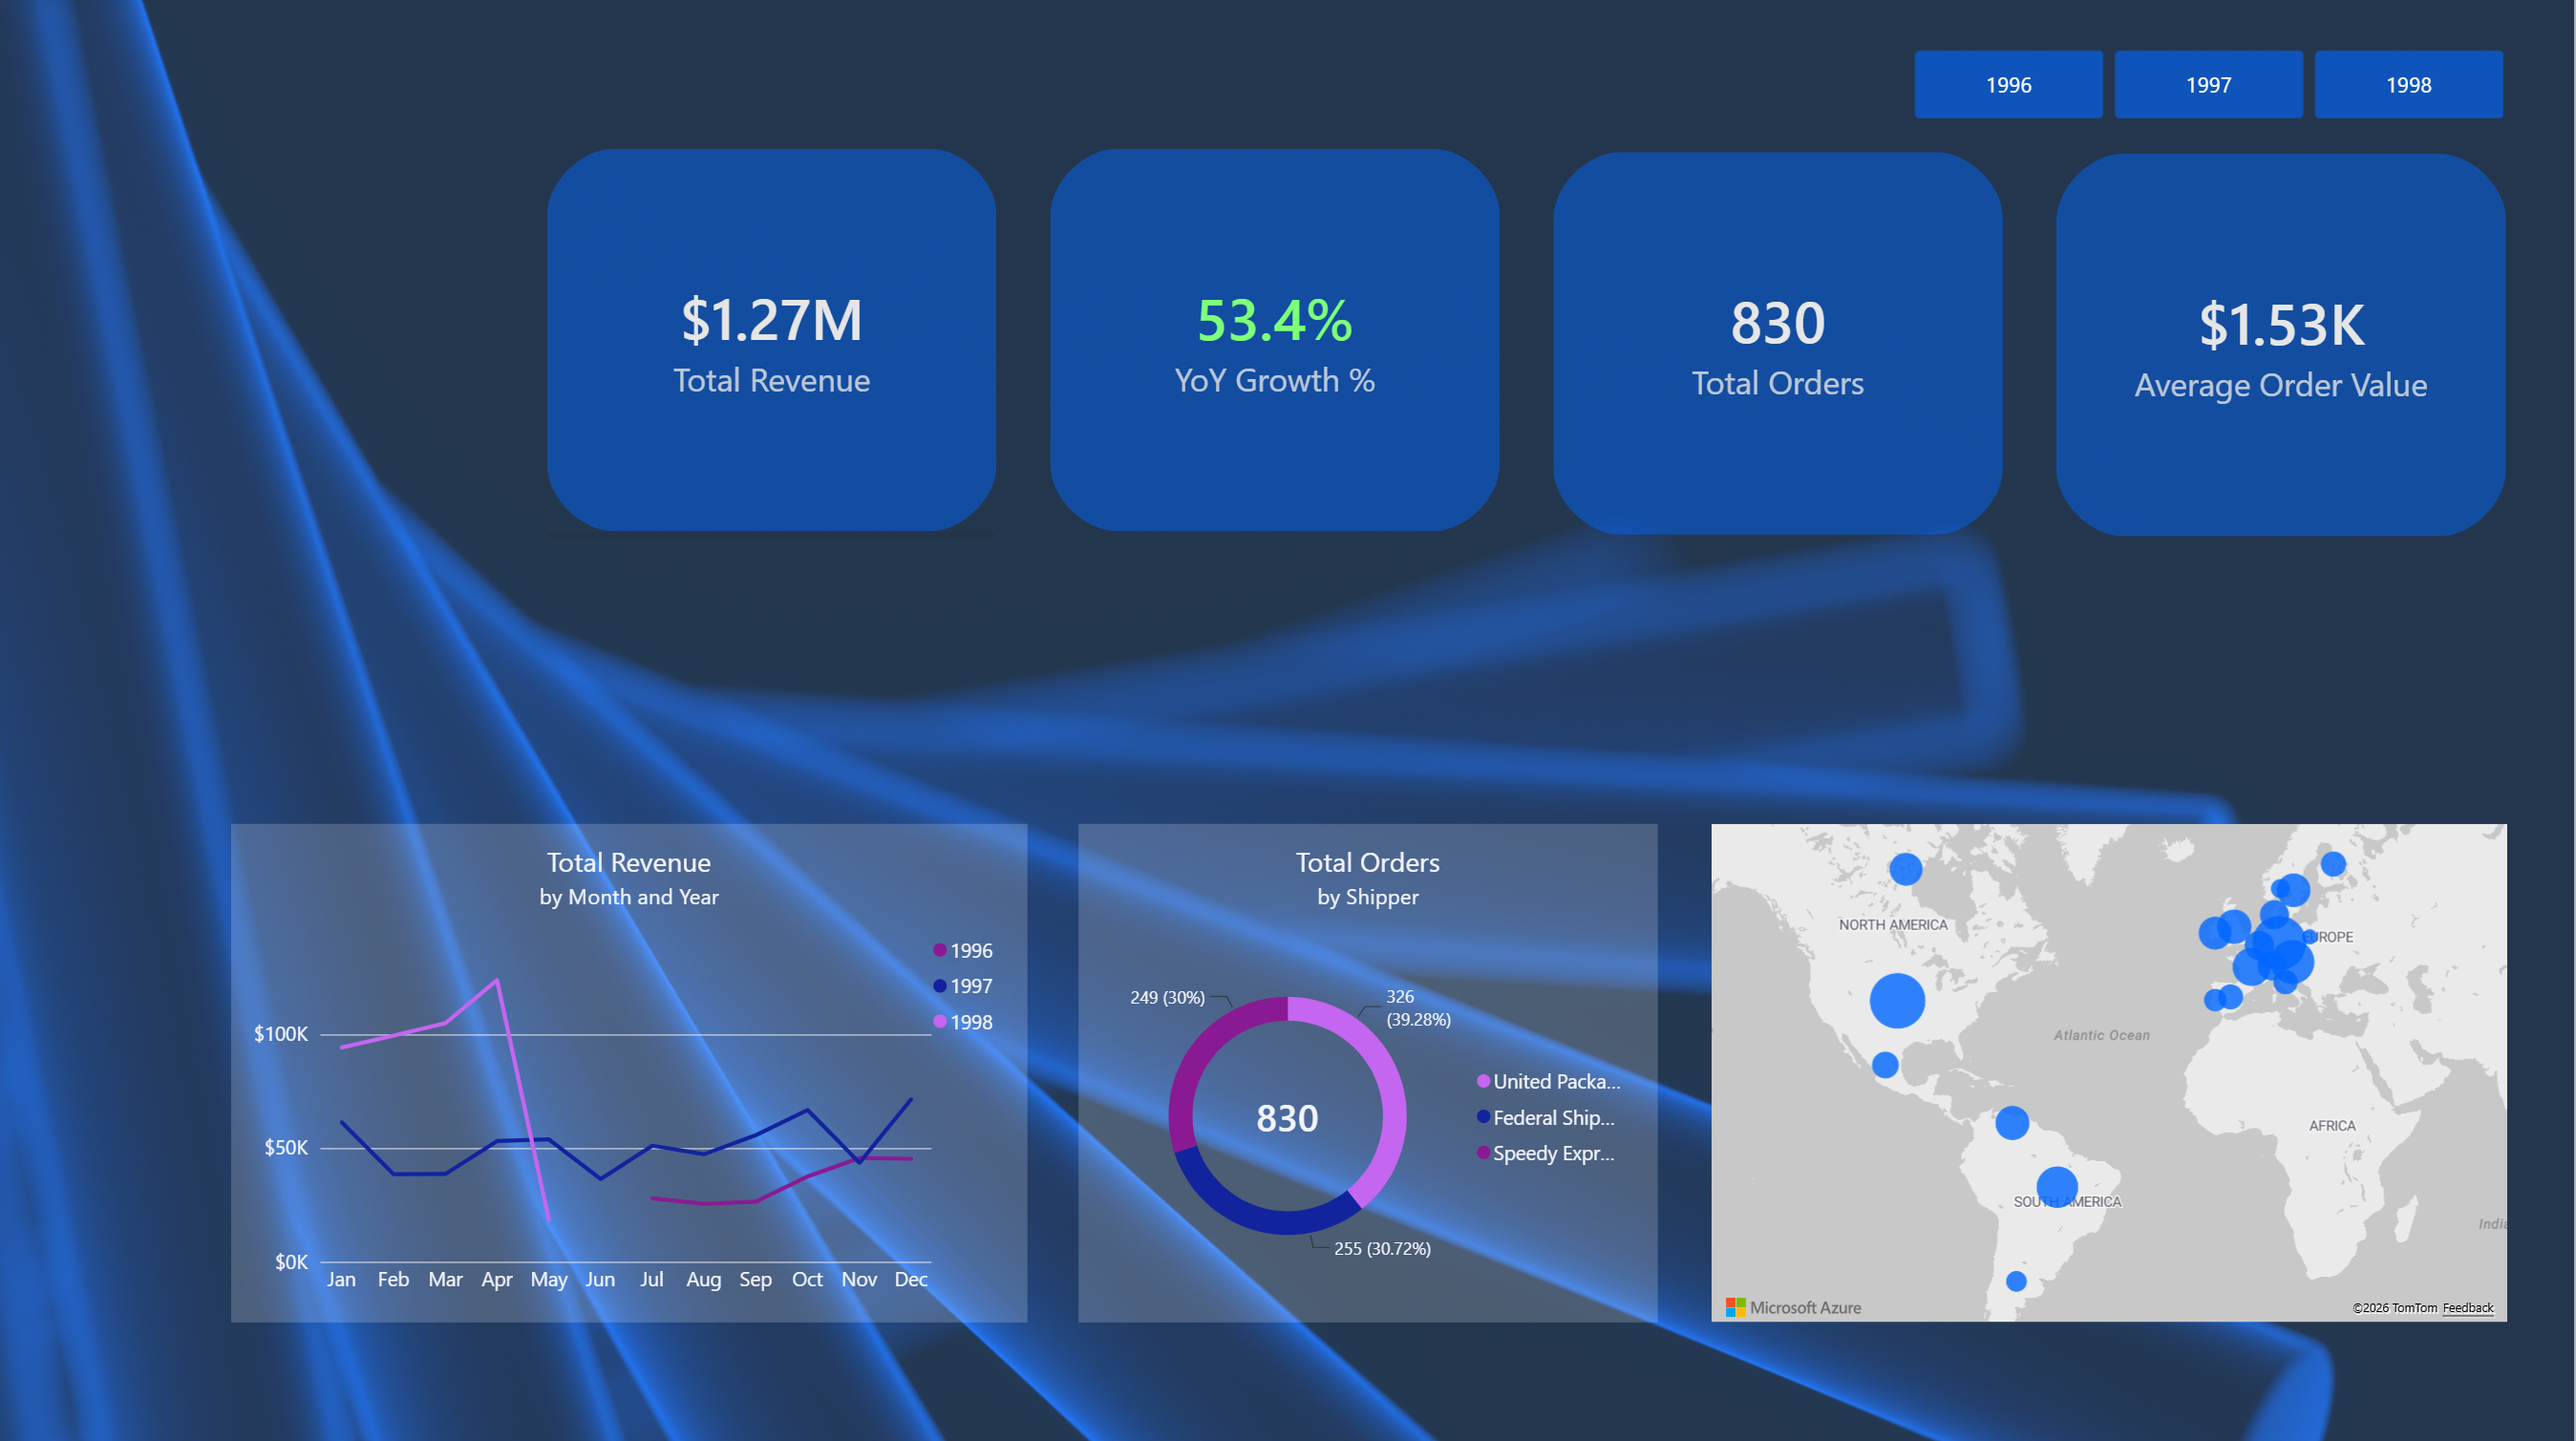

Layout of this report page (visuals, bound fields, positions):
{"tool":"powerbi","page":{"name":"Executive Overview","canvas":[1920,1080],"ordinal":0},"visuals":[{"type":"cardVisual","fields":{"Data":["_Measures.Total Revenue"]},"box":[409,110.9,335,285.6],"z":0},{"type":"textbox","box":[15.7,0,299.3,45.7],"z":1000},{"type":"cardVisual","fields":{"Data":["_Measures.YoY Growth %"]},"box":[784,110.9,335,285.6],"z":2000},{"type":"cardVisual","fields":{"Data":["_Measures.Total Orders"]},"box":[1159,113.3,335,285.6],"z":3000},{"type":"cardVisual","fields":{"Data":["_Measures.Average Order Value"]},"box":[1534.2,114.5,335,285],"z":4000},{"type":"lineChart","title":"Total Revenue ","fields":{"Category":["Date.Month Name"],"Series":["Date.Year"],"Y":["_Measures.Total Revenue"]},"box":[174,613.4,592.9,371.2],"z":5000},{"type":"advancedSlicerVisual","fields":{"Values":["Date.Year"]},"box":[1428.1,37.4,441.1,51.8],"z":6000},{"type":"azureMap","title":"Revenue by Country","fields":{"Category":["public vw_dim_customer_geo.Country"],"Size":["_Measures.Total Revenue"]},"box":[1277.5,613.4,592,371.2],"z":7000},{"type":"donutChart","fields":{"Category":["public vw_dim_shipper.Shipper"],"Y":["_Measures.Total Orders"]},"box":[806,613.4,431.4,371.2],"z":8000}]}

Visuals, with their boxes in screenshot pixels (x1, y1, x2, y2), scaled from the page's 1920x1080 canvas onto the 2576x1441 screenshot:
cardVisual - _Measures.Total Revenue: x1=549, y1=148, x2=998, y2=529
textbox: x1=21, y1=0, x2=422, y2=61
cardVisual - _Measures.YoY Growth %: x1=1052, y1=148, x2=1501, y2=529
cardVisual - _Measures.Total Orders: x1=1555, y1=151, x2=2005, y2=532
cardVisual - _Measures.Average Order Value: x1=2058, y1=153, x2=2508, y2=533
"Total Revenue " lineChart: x1=233, y1=818, x2=1029, y2=1314
advancedSlicerVisual - Date.Year: x1=1916, y1=50, x2=2508, y2=119
"Revenue by Country" azureMap: x1=1714, y1=818, x2=2508, y2=1314
donutChart - public vw_dim_shipper.Shipper x _Measures.Total Orders: x1=1081, y1=818, x2=1660, y2=1314
